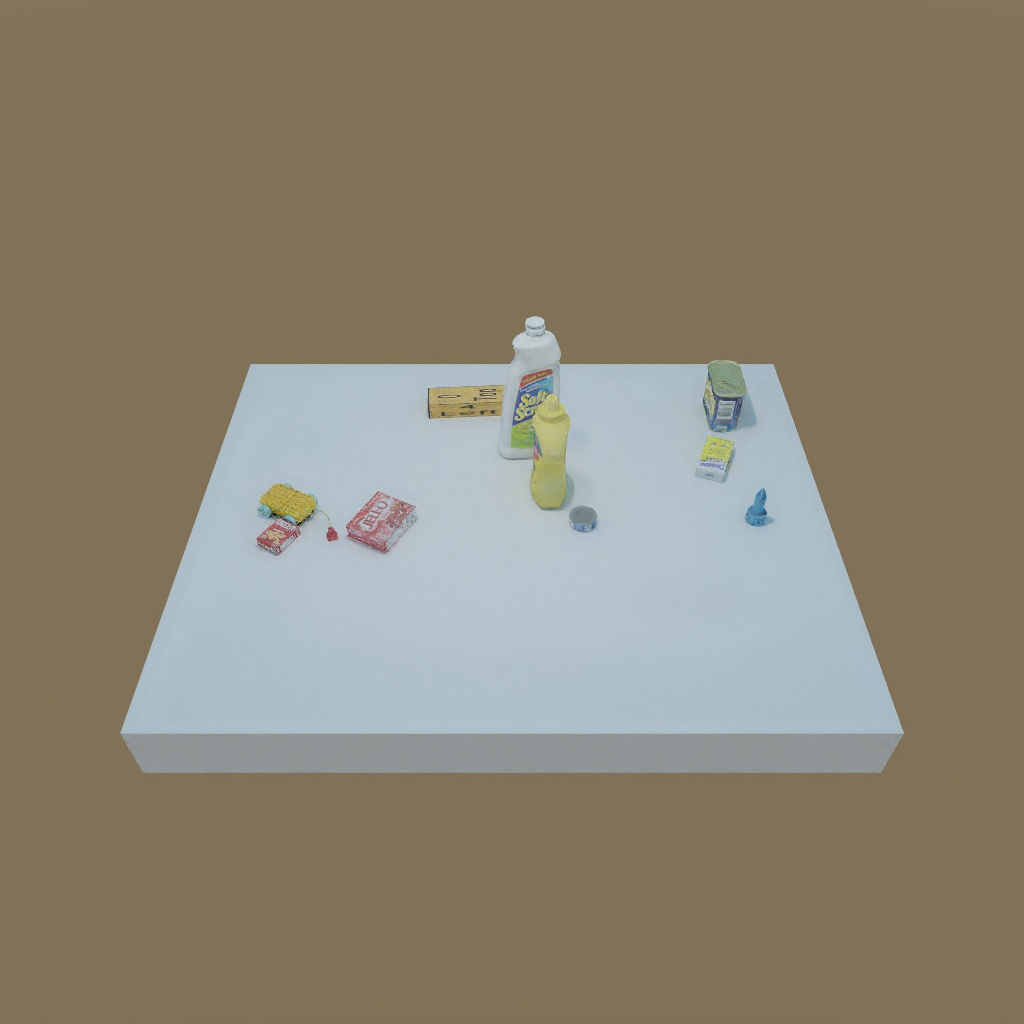gelatin_box: (350, 494, 416, 553)
jenga: (424, 381, 517, 419)
mustard_bottle: (520, 395, 570, 511)
potted_meat_can: (702, 363, 747, 430)
